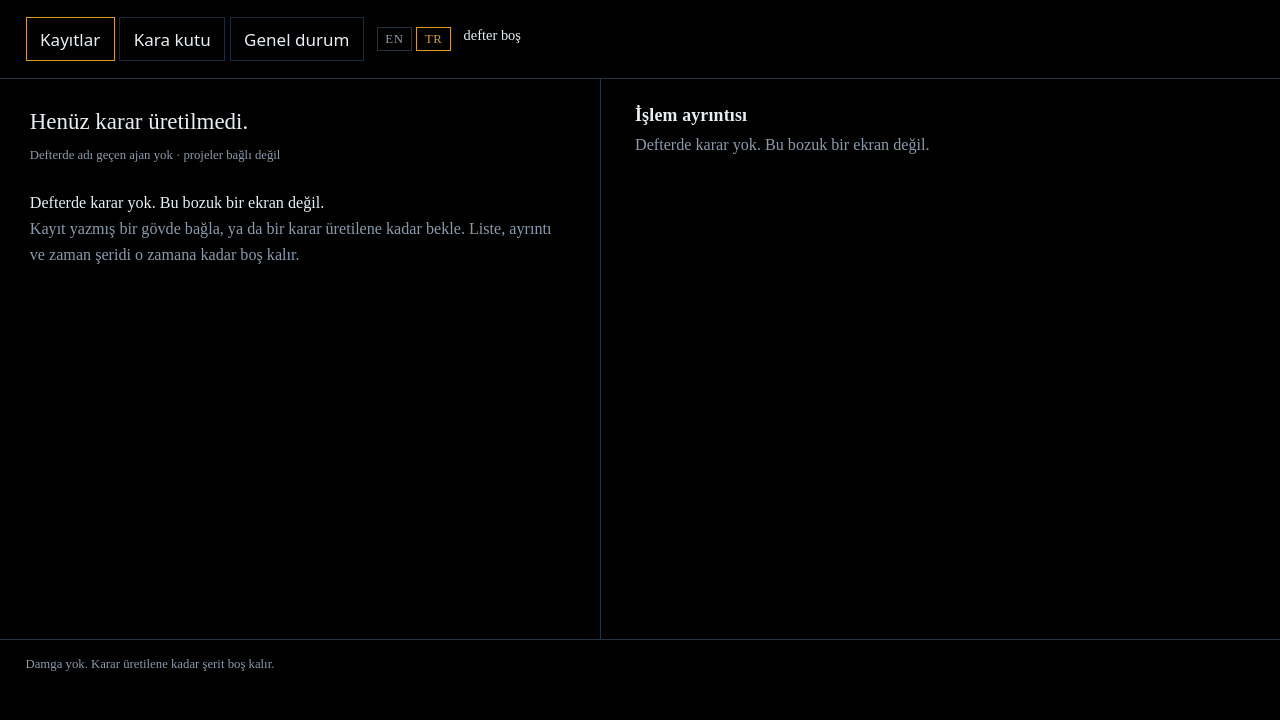
Scenario: pending approvals › formats a spend pending row as amount currency to payee
Click the tab "Genel durum" at (297, 39), box [230,17,364,61]
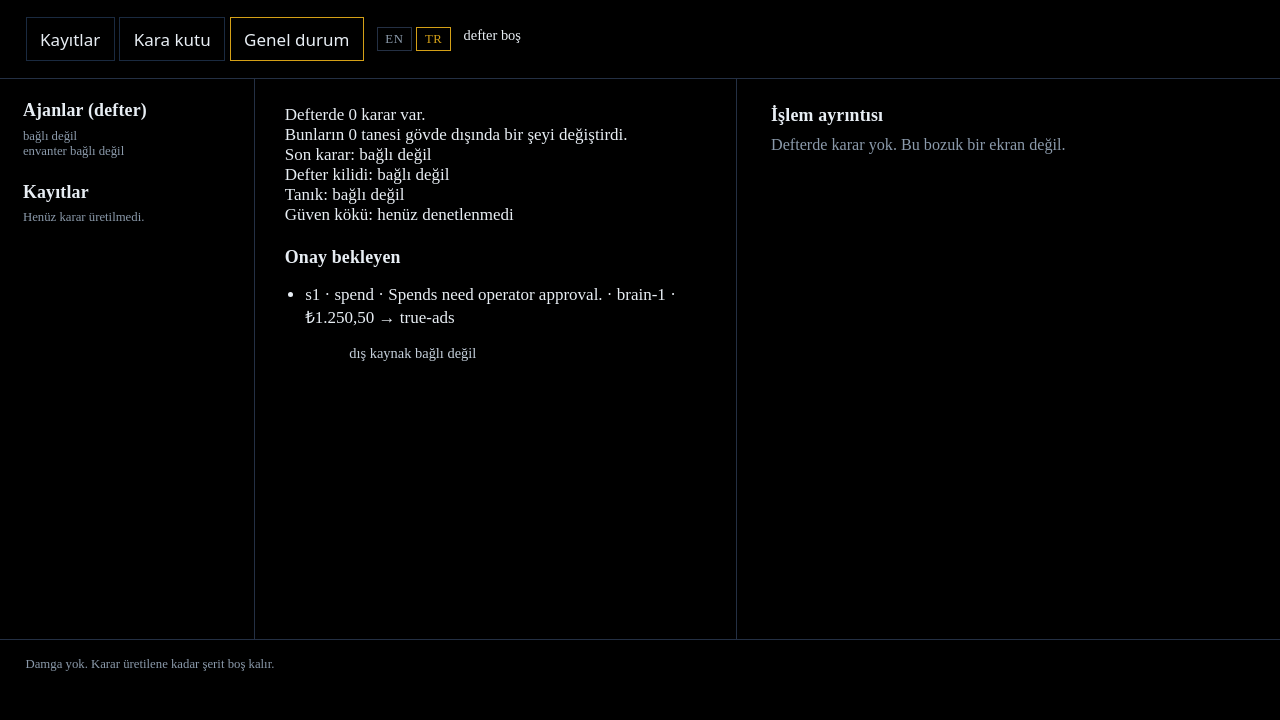
Expected: the element with test id "pending-approvals" shows "true-ads", [305,285,676,327]
Expected: the element with test id "pending-approvals" shows "Spends need operator approval", [388,285,603,304]
